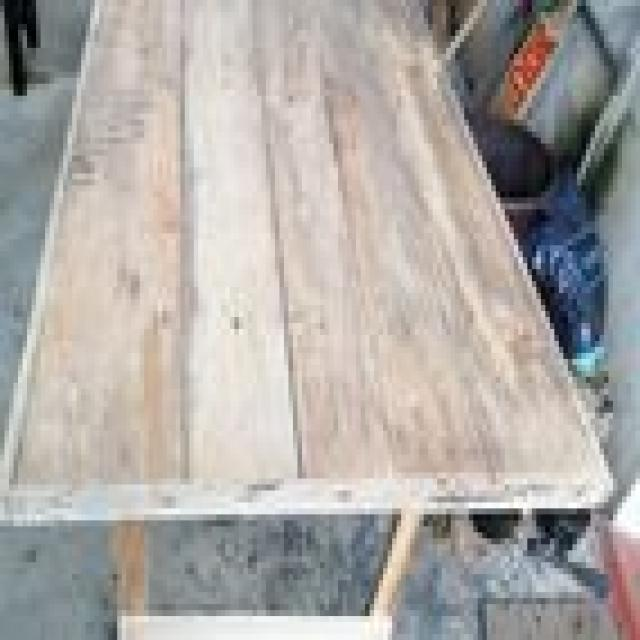others: (4, 6, 613, 550)
